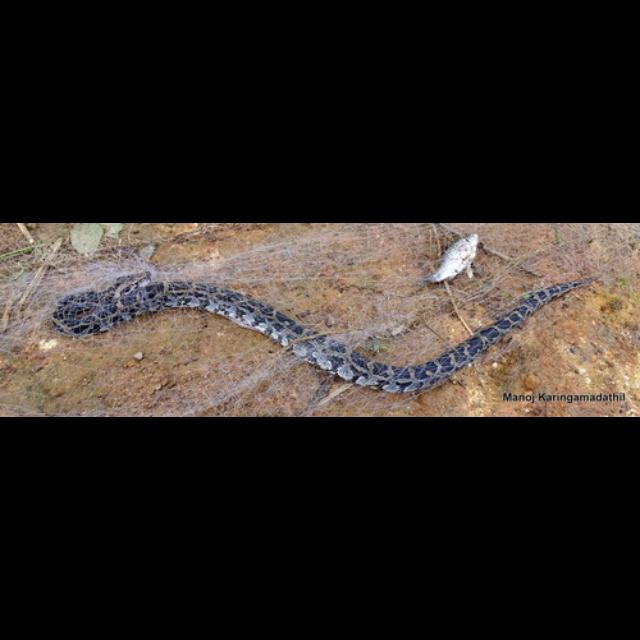snake: (54, 270, 600, 394)
